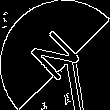N_SE: (23, 23, 87, 87)
